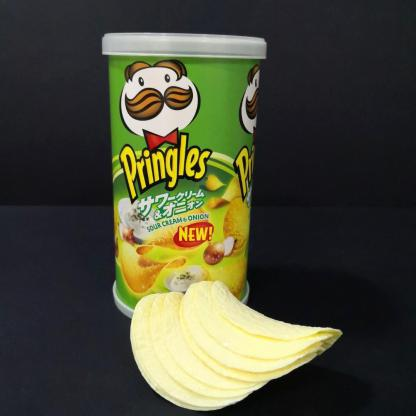potatochip: (99, 25, 271, 324)
